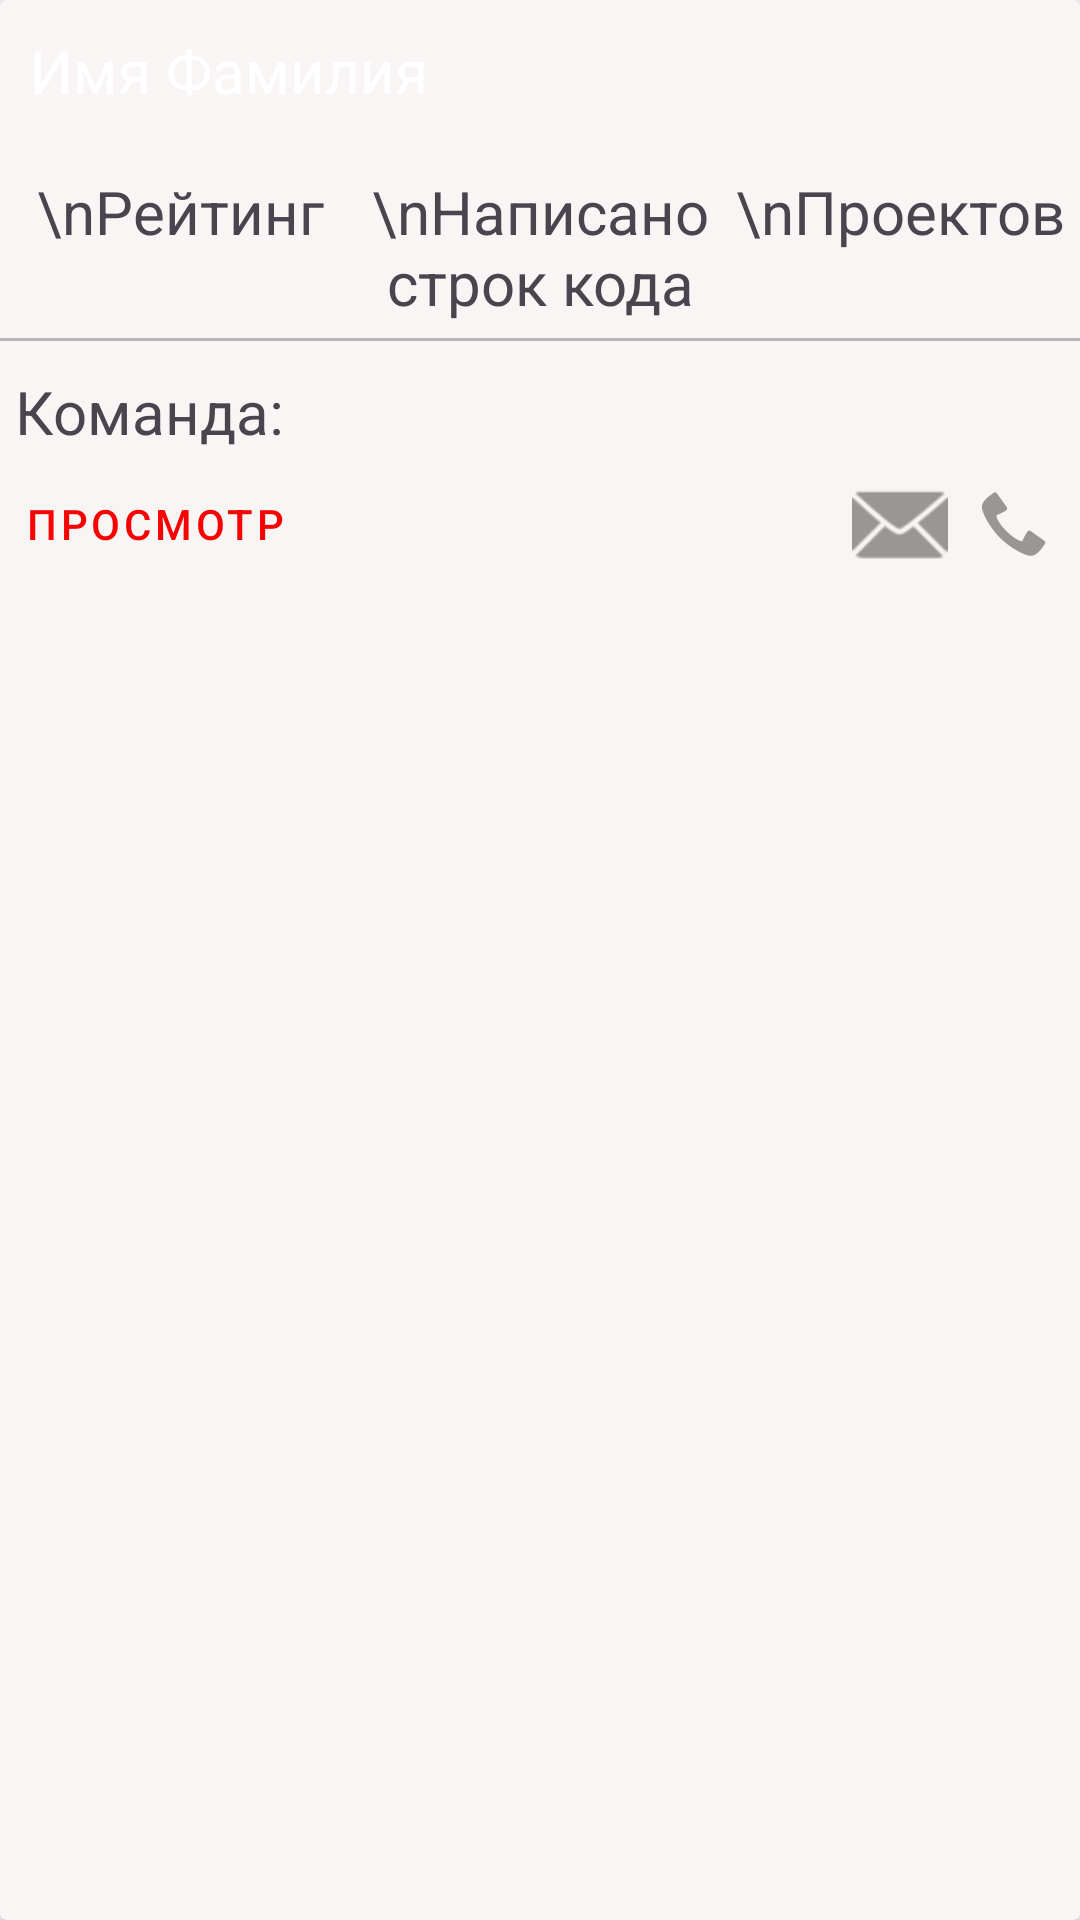

Icons on this 1080 × 1920 Android screen, each with the point to tap as (x=x, y=y):
mail: (x=900, y=525)
telephone: (x=1014, y=524)
